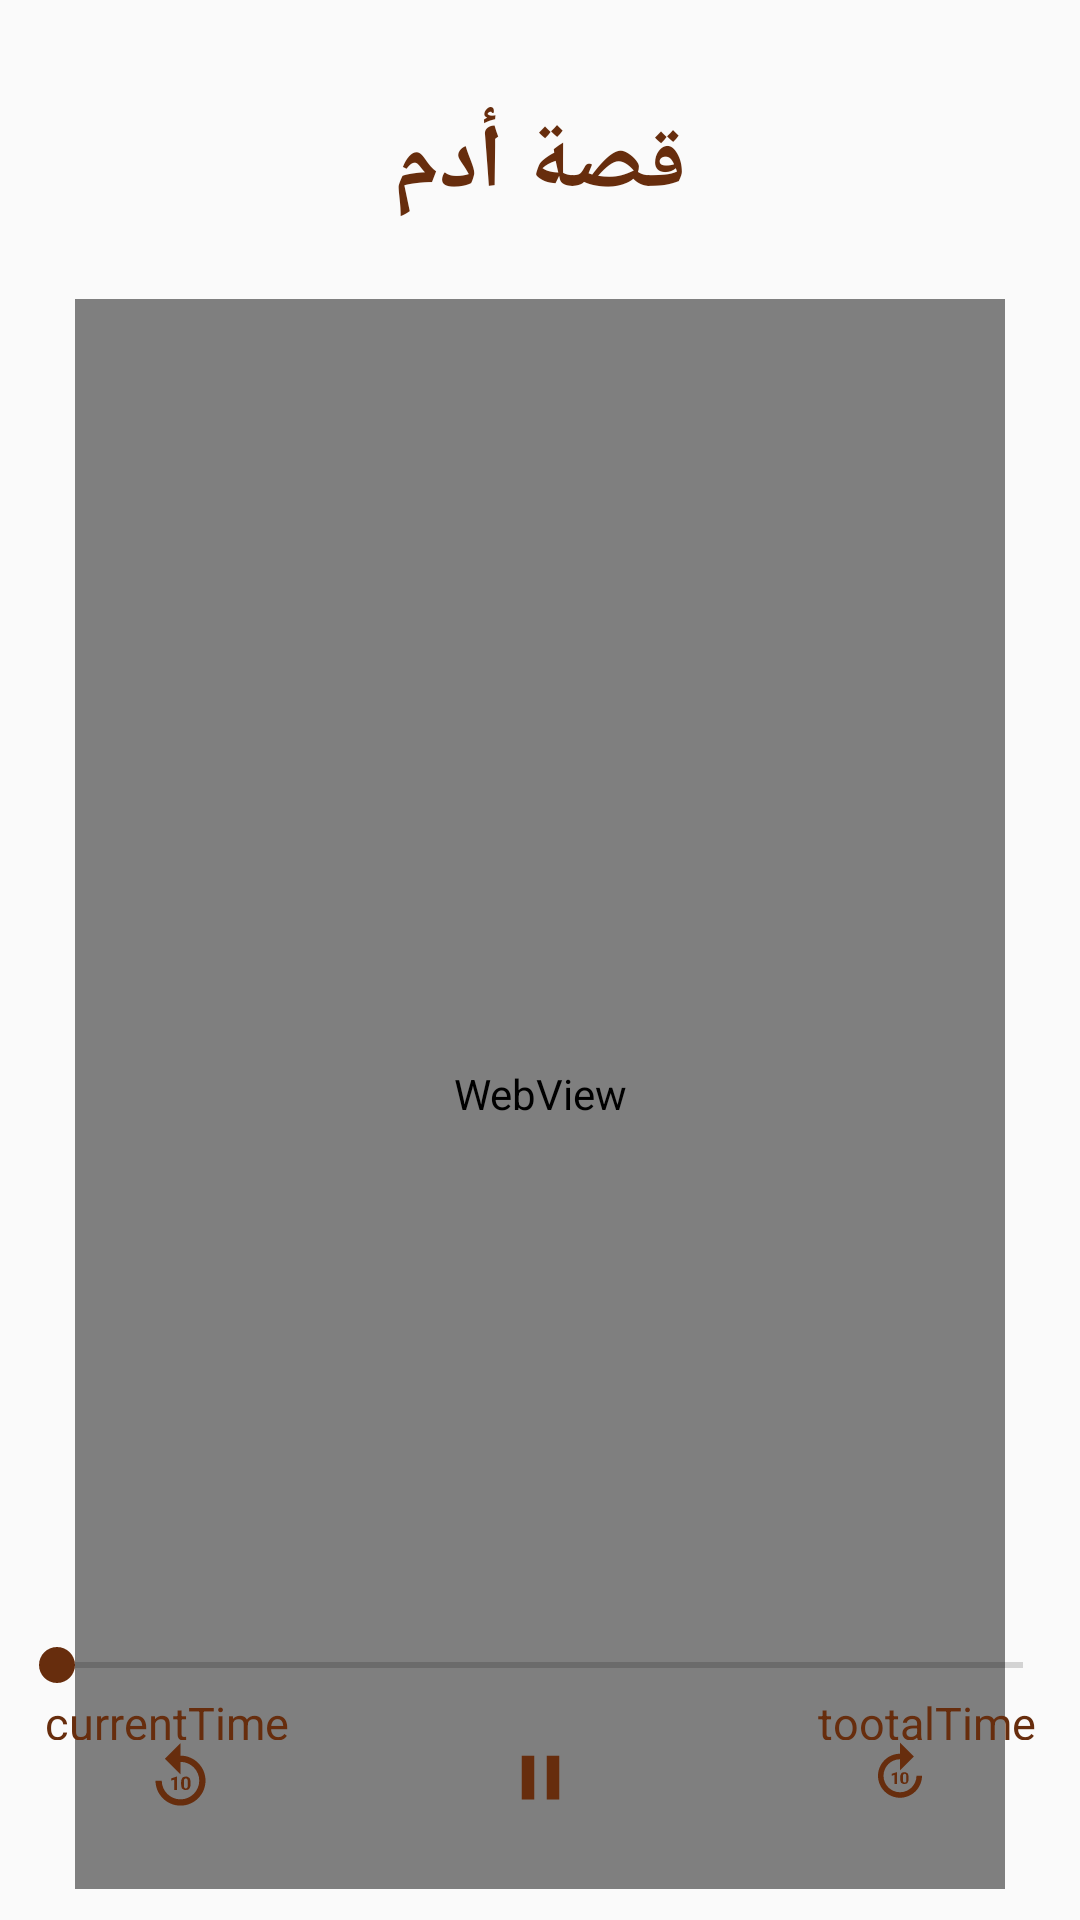

Point at icon controls on the screen. Image size 1080x1920, points as point (x, y).
pause: point (540, 1777)
